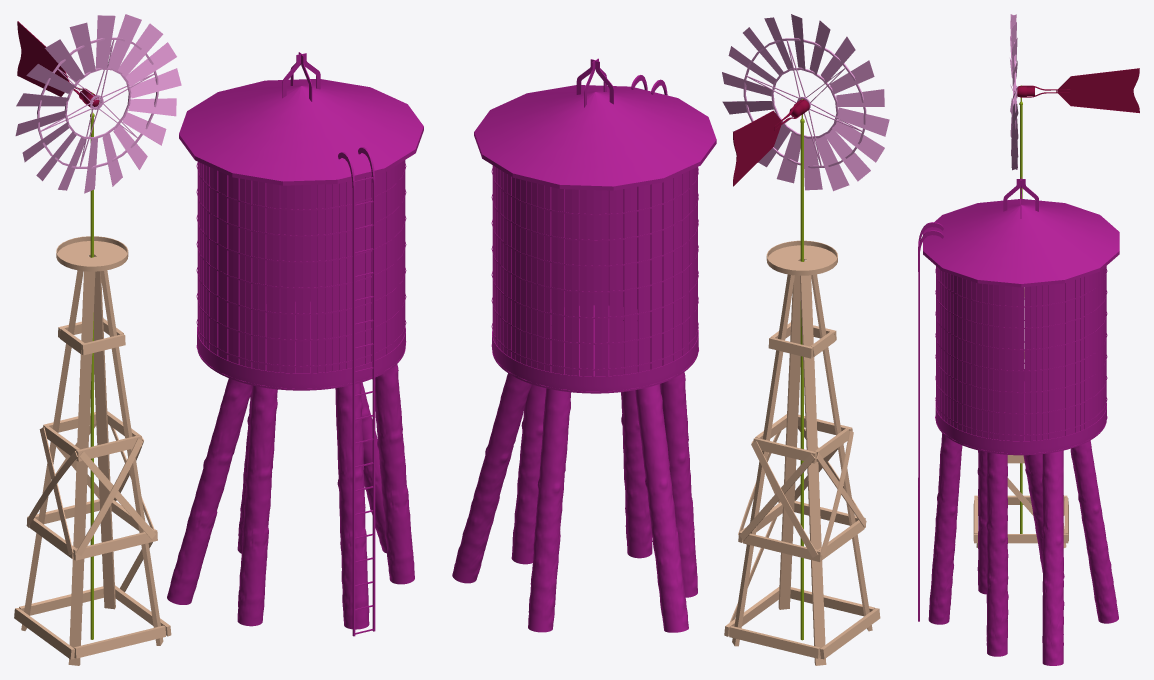
File: windmill.obj
The picture shows the model from 3 angles, left to right: view 1: azimuth 30°, elevation 25°; view 2: azimuth 150°, elevation 25°; view 3: azimuth 270°, elevation 25°; orthographic projection. The views are drawn at different scales.
Visible parts, largest first — view 1: reservoir, base, ventilateur, girouette, shaft; view 2: reservoir, base, ventilateur, girouette, shaft; view 3: reservoir, girouette, base, ventilateur, shaft.
Boxes of the visible parts, box(x1,y1,x2,y2) form: reservoir: box(167, 52, 423, 636); base: box(14, 236, 171, 665); ventilateur: box(15, 14, 181, 193); girouette: box(17, 21, 99, 107); shaft: box(90, 93, 94, 639); reservoir: box(452, 58, 716, 632); base: box(724, 240, 880, 665); ventilateur: box(722, 14, 889, 191); girouette: box(733, 99, 809, 186); shaft: box(800, 99, 804, 640); reservoir: box(918, 177, 1119, 665); girouette: box(1014, 68, 1139, 113); base: box(973, 288, 1068, 547); ventilateur: box(1010, 14, 1018, 170); shaft: box(1019, 85, 1022, 533).
Size of the model in its own units: 564 by 819 by 319.
